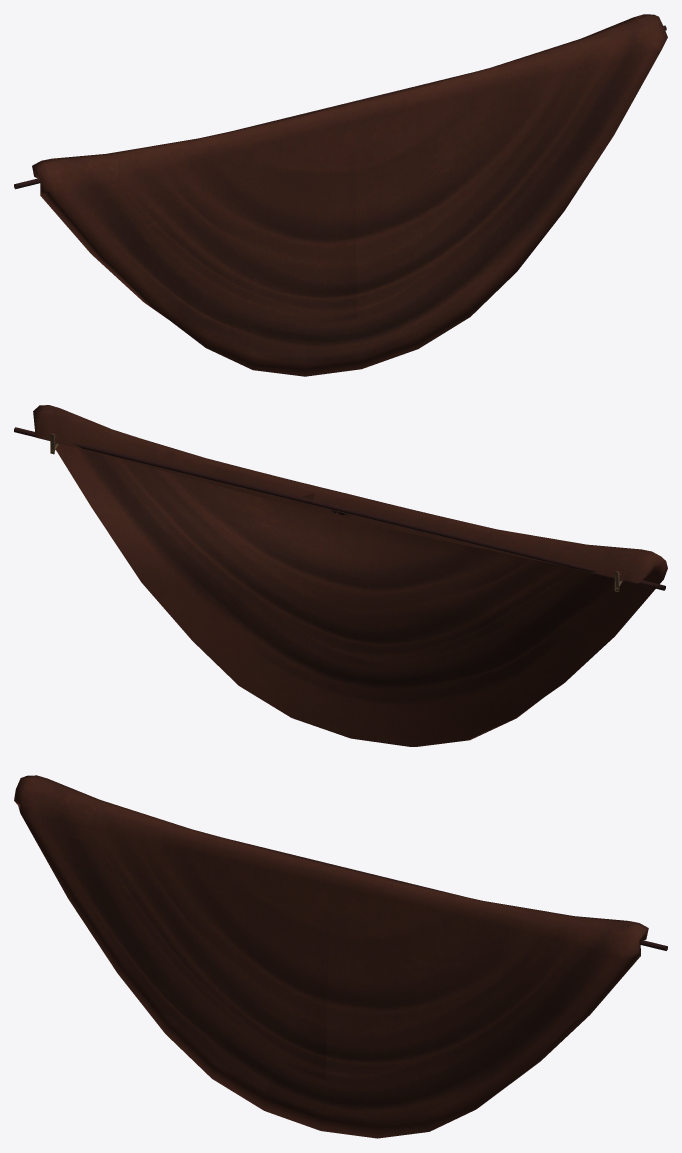
The model's file is ApartmentCurtainsMiddle.obj.
3 views of the same model, one above another, from view 1: azimuth 30°, elevation 25°; view 2: azimuth 150°, elevation 25°; view 3: azimuth 330°, elevation 25° (orthographic).
Parts seen in each view (by area): view 1: ApartmentCurtainsMiddle; view 2: ApartmentCurtainsMiddle; view 3: ApartmentCurtainsMiddle.
Part boxes in pixels (bbox=[...]): ApartmentCurtainsMiddle: bbox=[14, 14, 667, 376]; ApartmentCurtainsMiddle: bbox=[14, 405, 667, 746]; ApartmentCurtainsMiddle: bbox=[14, 775, 667, 1138].
Size of the model in its own units: 256 by 102 by 18.4.
Materials: 1 (1 with a texture image).
